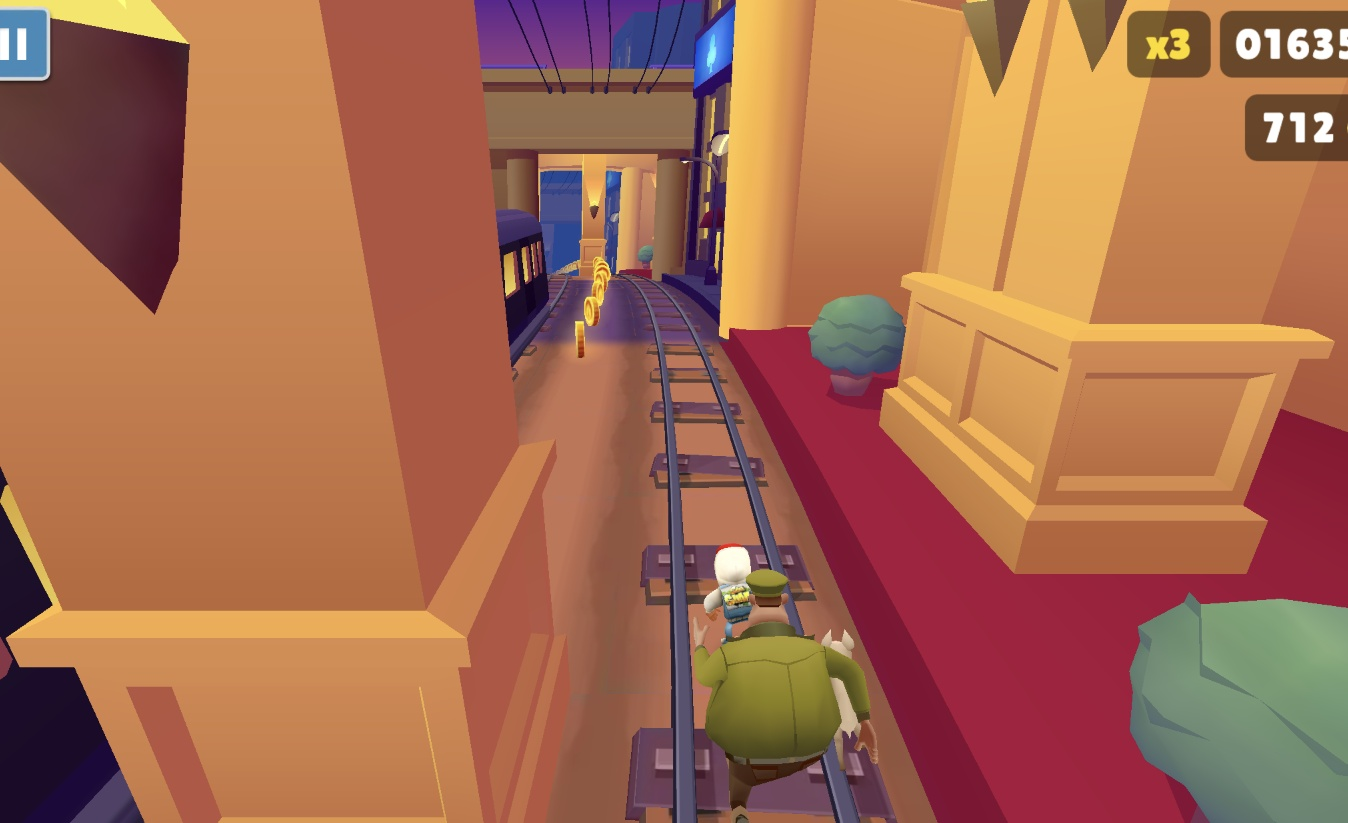pillar: (0, 0, 570, 823), (580, 150, 610, 277)
train: (495, 210, 549, 373)
